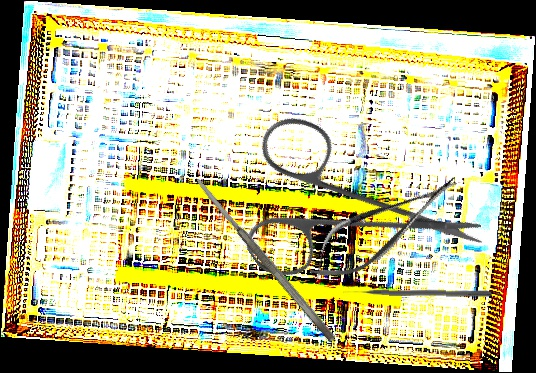Iris Scissors: (197, 59, 490, 355)
Micro Scissor: (296, 159, 471, 296)
Pusher: (342, 286, 493, 298)
Spatula Surgical: (193, 175, 337, 344)
